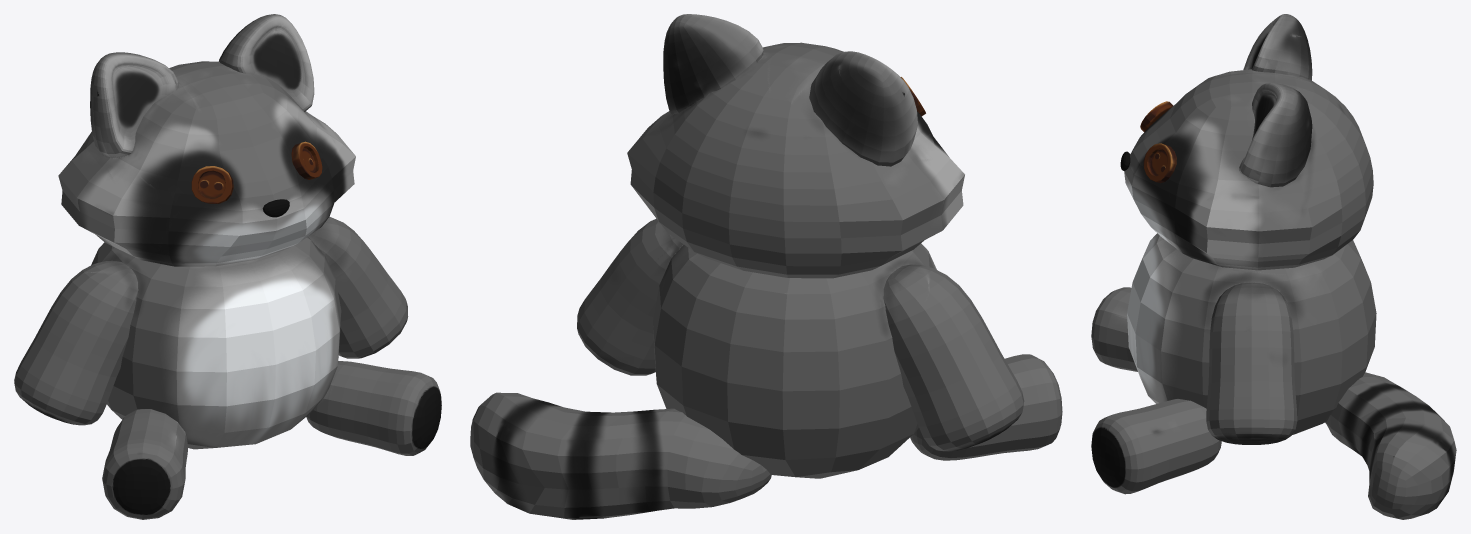
File: RacoonPlushie.fbx
3 renders of one model, left to right at view 1: azimuth 30°, elevation 25°; view 2: azimuth 150°, elevation 25°; view 3: azimuth 270°, elevation 25°, orthographic. The views are drawn at different scales.
Parts seen in each view (by area): view 1: Cube, FoxEyes.001, FoxEyes.002; view 2: Cube; view 3: Cube, FoxEyes.002.
Boxes of the visible parts, x1=… form: Cube: x1=14, y1=14, x2=441, y2=519; FoxEyes.001: x1=191, y1=166, x2=233, y2=203; FoxEyes.002: x1=291, y1=141, x2=322, y2=179; Cube: x1=470, y1=14, x2=1062, y2=519; Cube: x1=1091, y1=14, x2=1456, y2=519; FoxEyes.002: x1=1143, y1=143, x2=1176, y2=183.
Size of the model in its own units: 442 by 421 by 361.
Materials: 3 (2 with a texture image).
